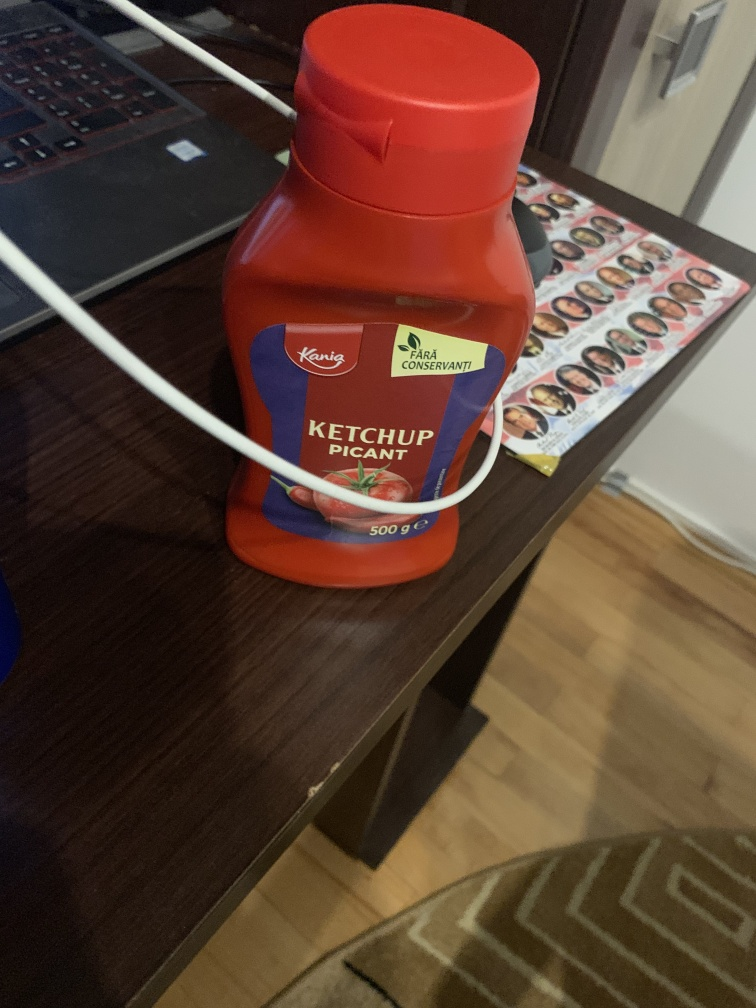ketchup: (222, 2, 549, 606)
